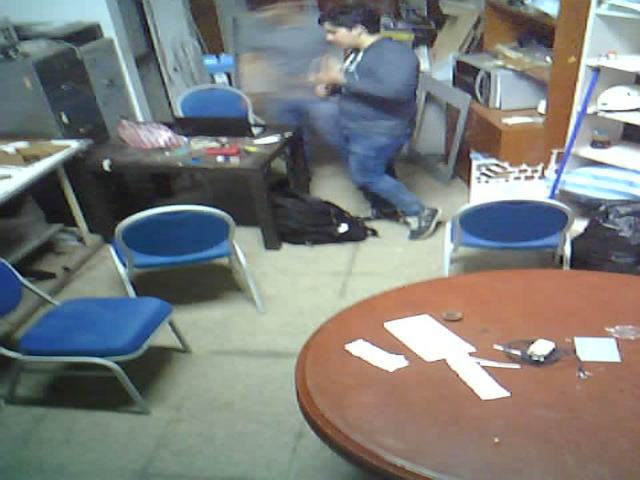person: (274, 0, 457, 243)
